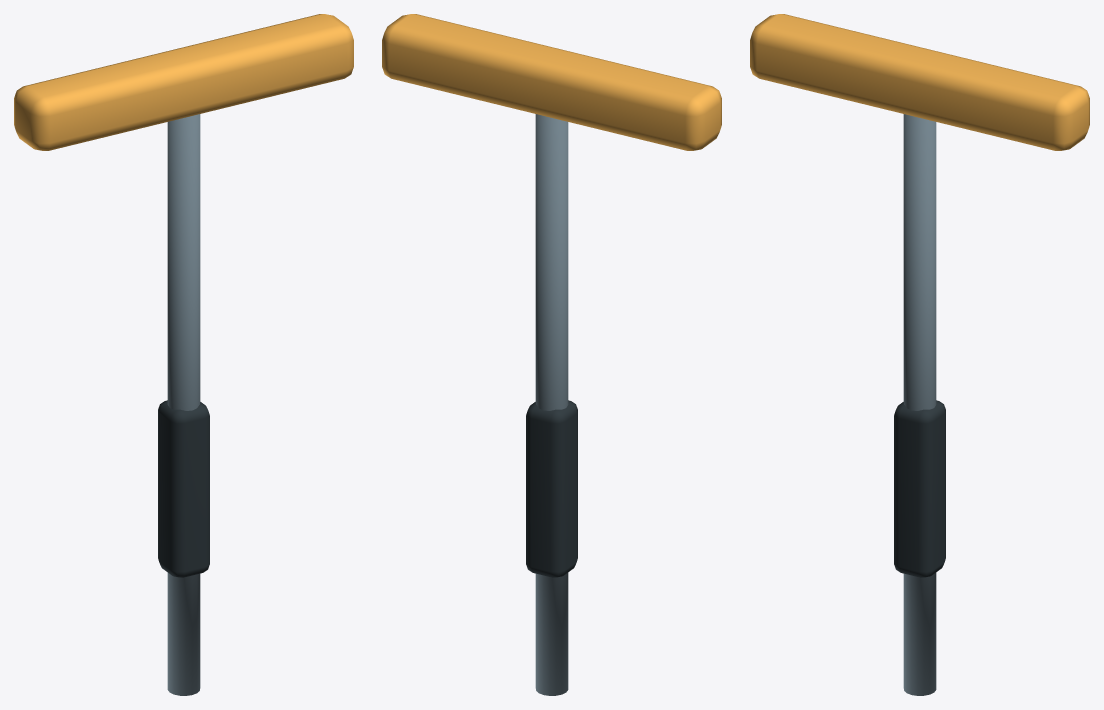
The model's file is SM_FE_MiningToolPose.fbx.
3 views of the same model, side by side, from view 1: azimuth 30°, elevation 25°; view 2: azimuth 150°, elevation 25°; view 3: azimuth 330°, elevation 25° (orthographic).
Visible parts, largest first — view 1: SM_FE_MiningToolPose; view 2: SM_FE_MiningToolPose; view 3: SM_FE_MiningToolPose.
Part boxes in pixels (x1=…): SM_FE_MiningToolPose: x1=14, y1=14, x2=353, y2=695; SM_FE_MiningToolPose: x1=382, y1=14, x2=721, y2=695; SM_FE_MiningToolPose: x1=750, y1=14, x2=1089, y2=695.
Size of the model in its own units: 50 by 8 by 94.
